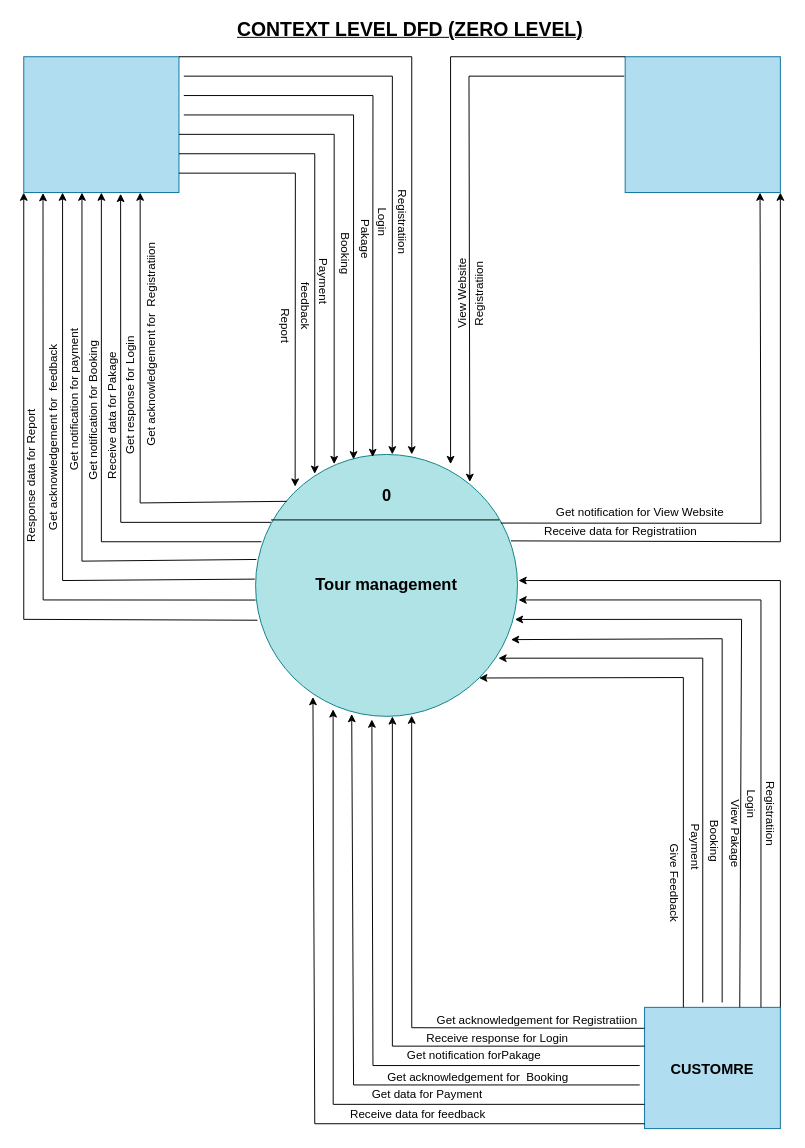
This 805x1148 diagram has some shape labels left out. The shapes that lost their labels are listed below. From the top down, each one's centre as x and y in pixels, then its label:
At point 101,124: "ADMIN".
At point 702,124: "VISITOR".
